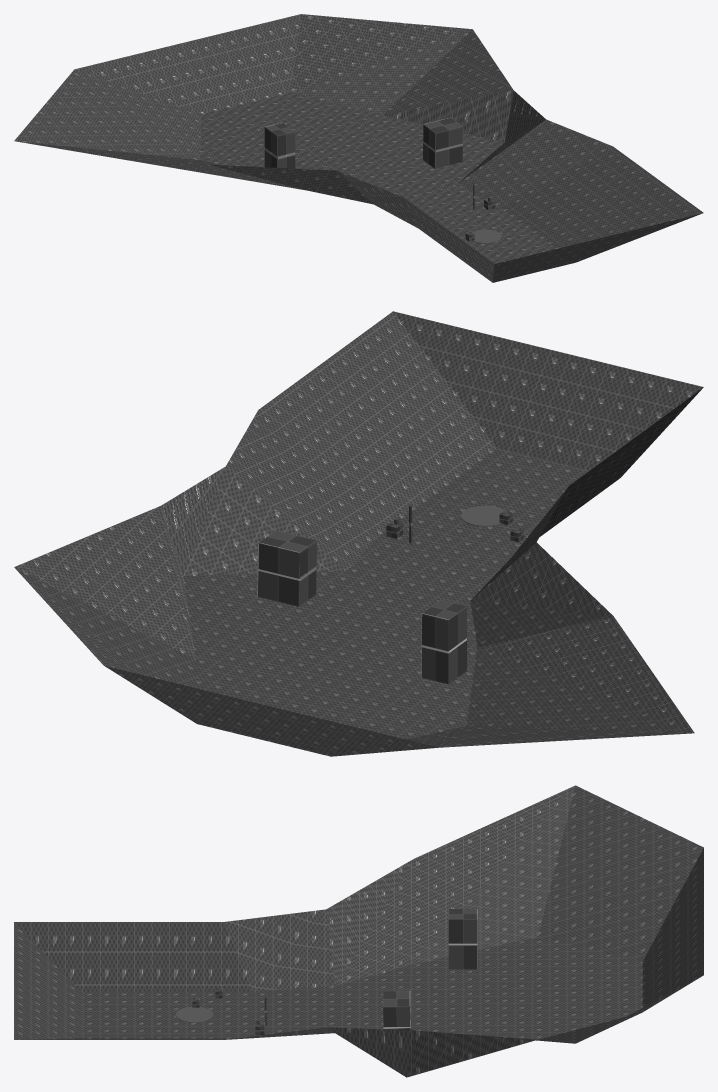
The model's file is testBox.glb.
The picture shows the model from 3 angles, top to bottom: view 1: azimuth 30°, elevation 25°; view 2: azimuth 150°, elevation 25°; view 3: azimuth 270°, elevation 25°; orthographic projection. The views are drawn at different scales.
Parts seen in each view (by area): view 1: Plane, Cube.002, Cube.006; view 2: Plane, Cube.002, Cube.006, Cylinder; view 3: Plane, Cube.006, Cube.002, Cylinder.
Part boxes in pixels (<box>): Plane: <box>14,14,703,282</box>; Cube.002: <box>423,117,463,168</box>; Cube.006: <box>264,122,295,168</box>; Plane: <box>14,311,703,756</box>; Cube.002: <box>257,530,317,606</box>; Cube.006: <box>421,599,467,684</box>; Cylinder: <box>461,505,505,526</box>; Plane: <box>14,785,703,1077</box>; Cube.006: <box>448,909,477,969</box>; Cube.002: <box>383,990,411,1030</box>; Cylinder: <box>176,1006,212,1022</box>.
Bounding box in the file's own units: 159 × 17.43 × 179.
1 material, 1 textured.
